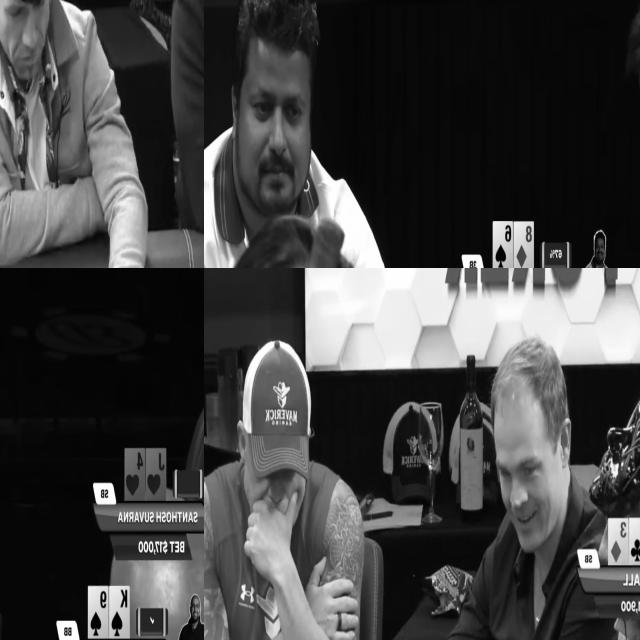3D: (608, 519, 630, 565)
4H: (126, 450, 145, 499)
6S: (493, 221, 512, 268)
8D: (514, 222, 533, 268)
9S: (89, 587, 107, 638)
JC: (629, 517, 640, 566)
JH: (147, 449, 165, 499)
KS: (110, 586, 129, 638)
